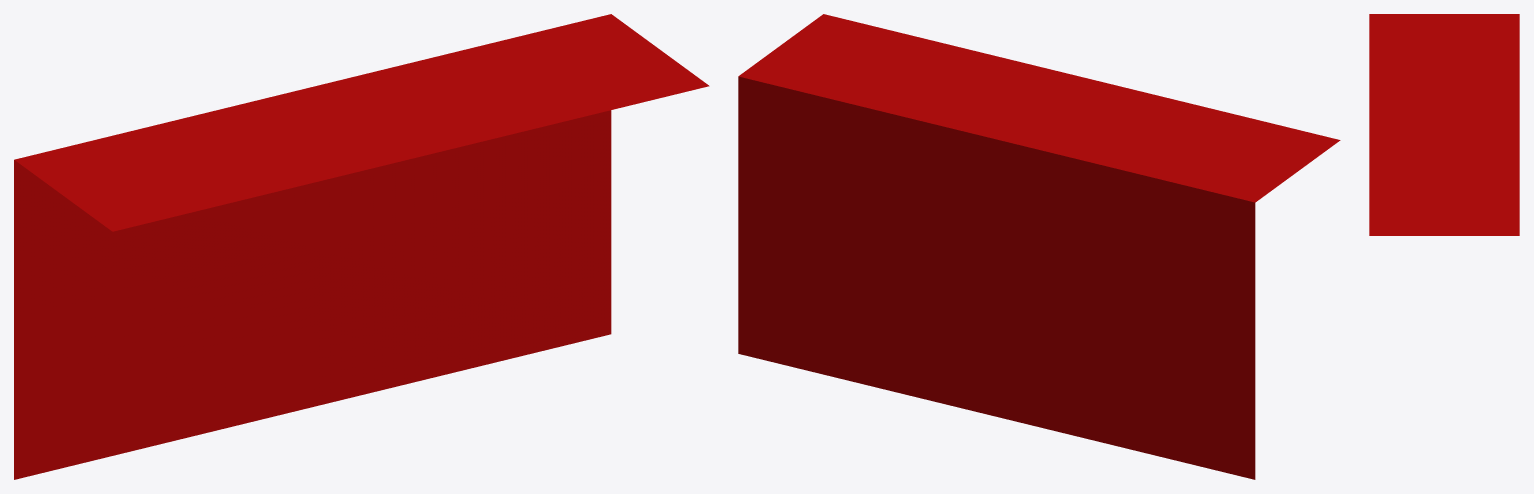
File: c_hallway_w.fbx
The picture shows the model from 3 angles, left to right: view 1: azimuth 30°, elevation 25°; view 2: azimuth 150°, elevation 25°; view 3: azimuth 270°, elevation 25°; orthographic projection. The views are drawn at different scales.
Parts seen in each view (by area): view 1: coll_hallway_w; view 2: coll_hallway_w; view 3: coll_hallway_w.
Part boxes in pixels (bbox=[...]): coll_hallway_w: bbox=[14, 14, 709, 479]; coll_hallway_w: bbox=[738, 14, 1340, 479]; coll_hallway_w: bbox=[1369, 14, 1519, 235].
Size of the model in its own units: 1400 by 717 by 400.
